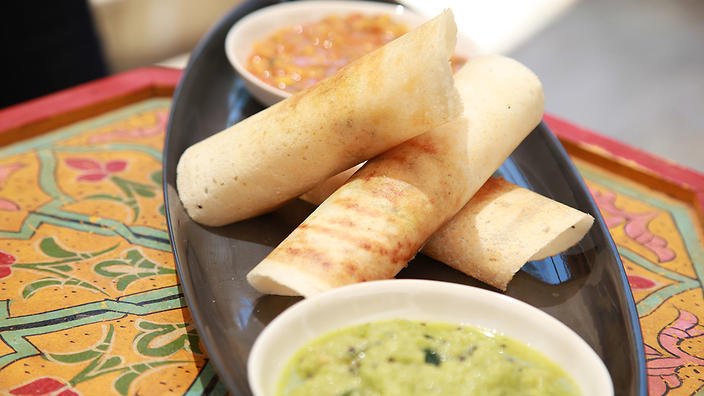dosa: (175, 7, 596, 295)
